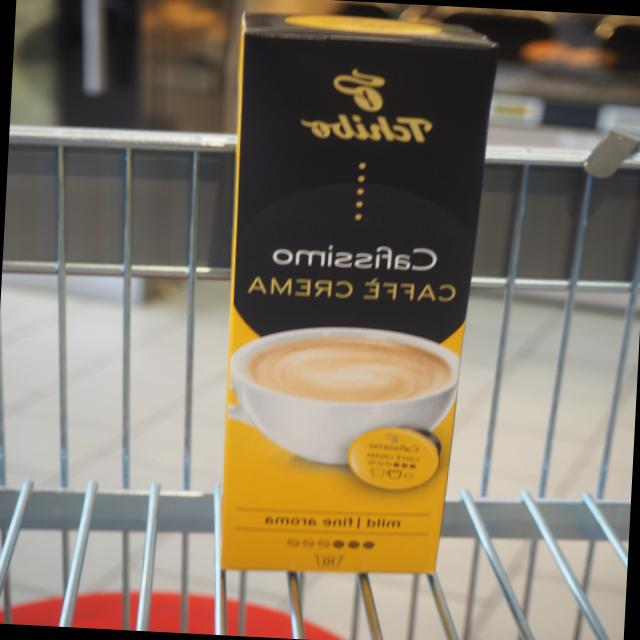Simo CCMild bigpack: (210, 10, 492, 592)
